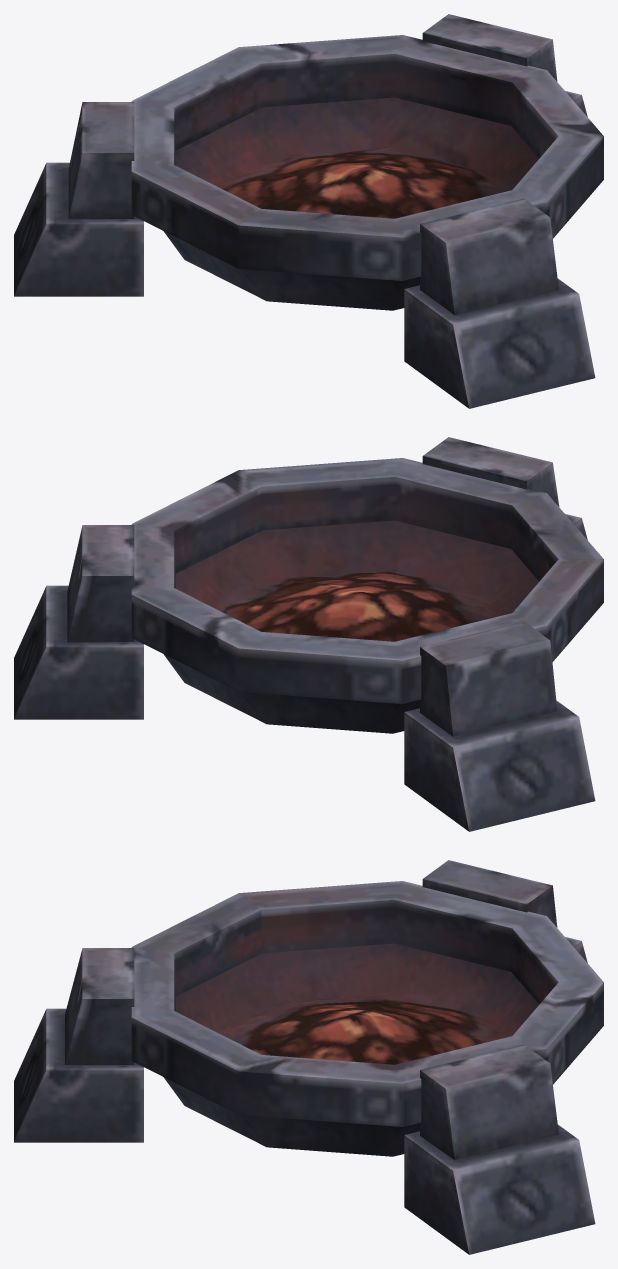
The model's file is brazier01.fbx.
3 renders of one model, top to bottom at view 1: azimuth 30°, elevation 25°; view 2: azimuth 150°, elevation 25°; view 3: azimuth 270°, elevation 25°, orthographic.
Parts seen in each view (by area): view 1: spawner_brazier; view 2: spawner_brazier; view 3: spawner_brazier.
Part boxes in pixels (x1,y1,x2,y2): spawner_brazier: (14, 14, 603, 408); spawner_brazier: (14, 437, 603, 831); spawner_brazier: (14, 860, 603, 1254).
Size of the model in its own units: 2.62 by 0.5933 by 2.29.
